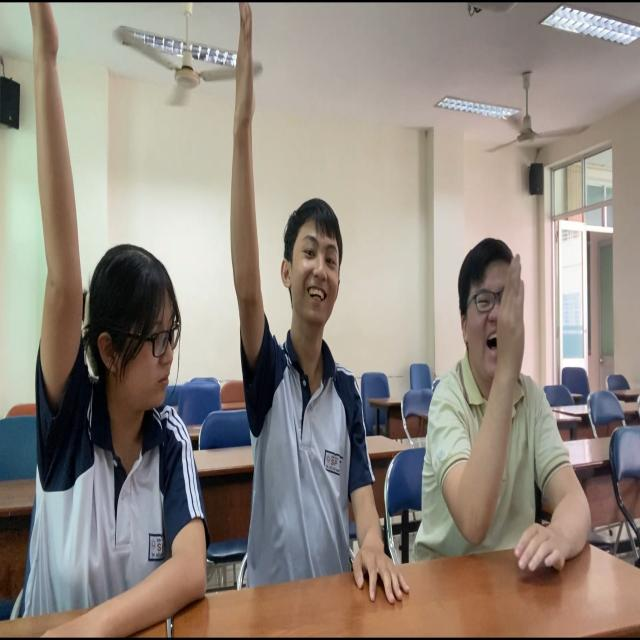raise_hand: (1, 1, 204, 633), (219, 1, 396, 620), (426, 219, 584, 583)
